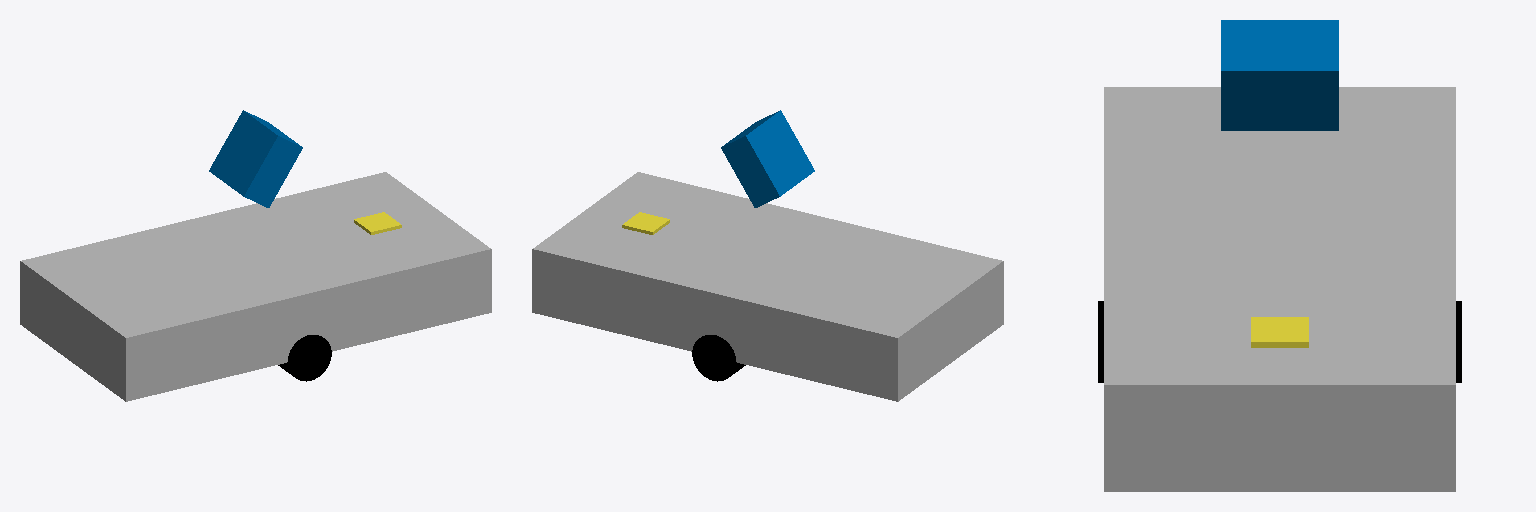
URDF robot description (tortoisebot):
<?xml version="1.0"?>
<robot name="tortoisebot">

  <link name="base_link">
    <visual>
      <geometry>
        <box size="0.6 0.3 0.1"/>
      </geometry>
      <material name="silver">
        <color rgba="0.75 0.75 0.75 1"/>
      </material>
      <origin rpy="0 0 0" xyz="0 0 0"/>
    </visual>
    <collision>
      <geometry>
        <box size="0.6 0.3 0.1"/>
      </geometry>
    </collision>
    <inertial>
      <mass value="1.0"/>
      <inertia ixx="0.015" iyy="0.0375" izz="0.0375" ixy="0" ixz="0" iyz="0"/>
    </inertial>
  </link>

    <gazebo reference="base_link">
        <material>Gazebo/Black</material>
    </gazebo> 

  <link name="right_wheel">
    <visual>
      <geometry>
        <cylinder length="0.05" radius="0.035"/>
      </geometry>
      <material name="black">
        <color rgba="0 0 0 1"/>
      </material>
    </visual>
    <collision>
      <geometry>
        <cylinder length="0.05" radius="0.035"/>
      </geometry>
    </collision>
    <inertial>
      <mass value="0.1"/>
      <inertia ixx="5.1458e-5" iyy="5.1458e-5" izz="6.125e-5" ixy="0" ixz="0" iyz="0"/>
    </inertial>
  </link>

    <gazebo reference="right_wheel">
        <material>Gazebo/Red</material>
    </gazebo>  

  <joint name="right_wheel_joint" type="continuous">
    <axis xyz="0 0 1"/>
    <parent link="base_link"/>
    <child link="right_wheel"/>
    <origin rpy="-1.5708 0 0" xyz="0 -0.13 -0.05"/>
  </joint>

  <link name="left_wheel">
    <visual>
      <geometry>
        <cylinder length="0.05" radius="0.035"/>
      </geometry>
      <material name="black"/>
    </visual>
    <collision>
      <geometry>
        <cylinder length="0.05" radius="0.035"/>
      </geometry>
    </collision>
    <inertial>
      <mass value="0.1"/>
      <inertia ixx="5.1458e-5" iyy="5.1458e-5" izz="6.125e-5" ixy="0" ixz="0" iyz="0"/>
    </inertial>
  </link>

    <gazebo reference="left_wheel">
        <material>Gazebo/Red</material>
    </gazebo>  

  <joint name="left_wheel_joint" type="continuous">
    <axis xyz="0 0 1"/>
    <parent link="base_link"/>
    <child link="left_wheel"/>
    <origin rpy="-1.5708 0 0" xyz="0 0.13 -0.05"/>
  </joint>

  <gazebo>
    <plugin name="differential_drive_controller" filename="libgazebo_ros_diff_drive.so">
      <leftJoint>left_wheel_joint</leftJoint>
      <rightJoint>right_wheel_joint</rightJoint>
      <robotBaseFrame>base_link</robotBaseFrame>
      <wheelSeparation>0.26</wheelSeparation>
      <wheelDiameter>0.07</wheelDiameter>
      <publishWheelJointState>true</publishWheelJointState>
    </plugin>
  </gazebo>

<!--imu below-->
<link name="imu_link">
    <collision>
      <origin xyz="0 0 0" rpy="0 0 0"/>
      <geometry>
        <box size="0.05 0.05 0.01"/>
      </geometry>
    </collision>
    <visual>
      <origin xyz="0 0 0" rpy="0 0 0"/>
      <geometry>
        <box size="0.05 0.05 0.01"/>
      </geometry>
    </visual>
    <inertial>
      <mass value="1e-5" />
      <origin xyz="0 0 0" rpy="0 0 0"/>
      <inertia ixx="1e-6" ixy="0" ixz="0" iyy="1e-6" iyz="0" izz="1e-6" />
    </inertial>
  </link>
    <gazebo reference="imu_link">
        <material>Gazebo/Yellow</material>
    </gazebo> 

  <joint name="imu_joint" type="fixed">
    <axis xyz="0 1 0" />
    <origin xyz="0.2 0 0.05" rpy="0 0 0"/>
    <parent link="base_link"/>
    <child link="imu_link"/>
  </joint>

      <gazebo reference="imu_link"> 
        <gravity>true</gravity>
        <sensor name="imu_sensor" type="imu">
            <always_on>true</always_on>
            <update_rate>100</update_rate>
            <visualize>true</visualize>
            <topic>__default_topic__</topic>
            <plugin filename="libgazebo_ros_imu_sensor.so" name="imu_plugin">  
                <topicName>imu</topicName>             
                <bodyName>imu_link</bodyName>
                <updateRateHZ>100.0</updateRateHZ>     
                <gaussianNoise>0.0</gaussianNoise>     
                <xyzOffset>0 0 0</xyzOffset>     
                <rpyOffset>0 0 0</rpyOffset>
                <frameName>imu_link</frameName>        
            </plugin>
            <pose>0 0 0 0 0 0</pose>
        </sensor>
     </gazebo>

<!--camera below-->
<link name="camera_link">
    <collision>
      <origin xyz="0 0 0" rpy="0 0 0"/>
      <geometry>
        <box size="0.05 0.1 0.1"/>
      </geometry>
    </collision>
    <visual>
      <origin xyz="0 0 0" rpy="0 0.4 0"/>
      <geometry>
        <box size="0.05 0.1 0.1"/>
      </geometry>
    </visual>
    <inertial>
      <mass value="1e-5" />
      <origin xyz="0 0 0" rpy="0 0 0"/>
      <inertia ixx="1e-6" ixy="0" ixz="0" iyy="1e-6" iyz="0" izz="1e-6" />
    </inertial>
  </link>
    <gazebo reference="camera_link">
        <material>Gazebo/Blue</material>
    </gazebo> 

  <joint name="camera_joint" type="fixed">
    <axis xyz="0 1 0" />
    <origin xyz="0 0 0.2" rpy="0 0.2 0"/>
    <parent link="base_link"/>
    <child link="camera_link"/>
  </joint>


  <gazebo reference="camera_link">
	<sensor type="camera" name="camera_node">
		<pose>0 0 0 0 0 0</pose>
                <update_rate>60.0</update_rate>
                <camera name="head">
                    <horizontal_fov>1.3962634</horizontal_fov>
                    <image>
                        <width>1280</width>
                        <height>720</height>
                        <format>R8G8B8</format>
                    </image>
                    <clip>
                        <near>0.02</near>
                        <far>300</far>
                    </clip>
                    <noise>
                        <type>gaussian</type>
                        <mean>0.0</mean>
                        <stddev>0.007</stddev>
                    </noise>
                </camera>
                <plugin name="gazebo_camera" filename="libgazebo_ros_camera.so">
                    <alwaysOn>true</alwaysOn>
                    <updateRate>0.0</updateRate>
                    <cameraName>/camera</cameraName>
                    <imageTopicName>image_raw</imageTopicName>
                    <cameraInfoTopicName>camera_info</cameraInfoTopicName>
                    <frameName>camera_link</frameName>
                    <hackBaseline>0.07</hackBaseline>
                    <distortionK1>0.0</distortionK1>
                    <distortionK2>0.0</distortionK2>
                    <distortionK3>0.0</distortionK3>
                    <distortionT1>0.0</distortionT1>
                    <distortionT2>0.0</distortionT2>
                </plugin>
            </sensor>
  </gazebo>
</robot>

--- Facts derived from the render (not from the file) ---
3 views of the same robot in one strip: view 1: azimuth 30°, elevation 25°; view 2: azimuth 150°, elevation 25°; view 3: azimuth 270°, elevation 25° (orthographic).
Robot: tortoisebot — 5 links, 4 joints (2 continuous, 2 fixed); root link base_link; default pose: all joints at 0.
Links seen in each view (by area): view 1: base_link, camera_link, right_wheel, imu_link; view 2: base_link, camera_link, left_wheel, imu_link; view 3: base_link, camera_link, imu_link.
Link boxes in pixels (x1,y1,x2,y2): base_link: [20, 172, 491, 401]; camera_link: [209, 110, 302, 207]; right_wheel: [278, 335, 331, 381]; imu_link: [354, 212, 401, 234]; base_link: [532, 172, 1003, 401]; camera_link: [721, 110, 814, 207]; left_wheel: [692, 335, 745, 381]; imu_link: [622, 212, 669, 234]; base_link: [1104, 87, 1455, 491]; camera_link: [1221, 20, 1338, 130]; imu_link: [1251, 317, 1308, 347].
Size in the robot's own frame: 0.6 by 0.31 by 0.3404 metres.
Geometry: primitives only (box / cylinder / sphere), no mesh files.